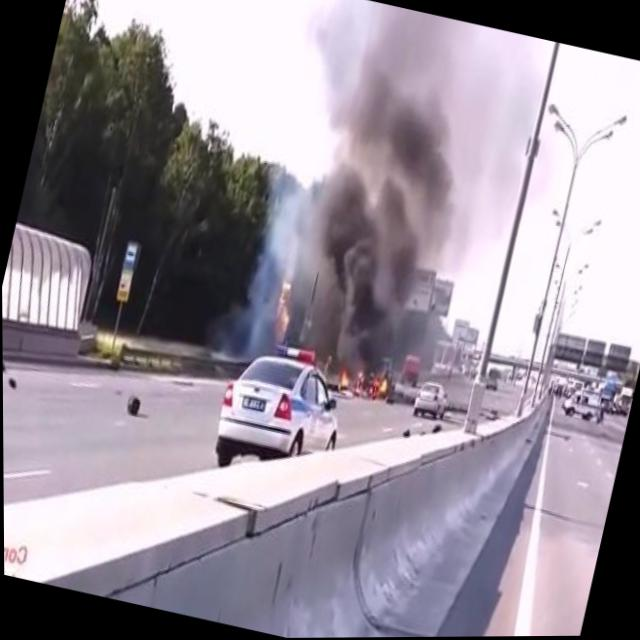fire: (334, 361, 391, 405), (268, 274, 299, 337)
